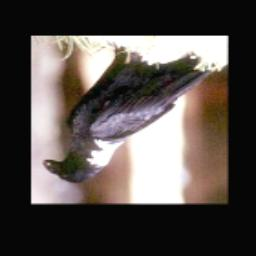Crow: (41, 43, 221, 189)
